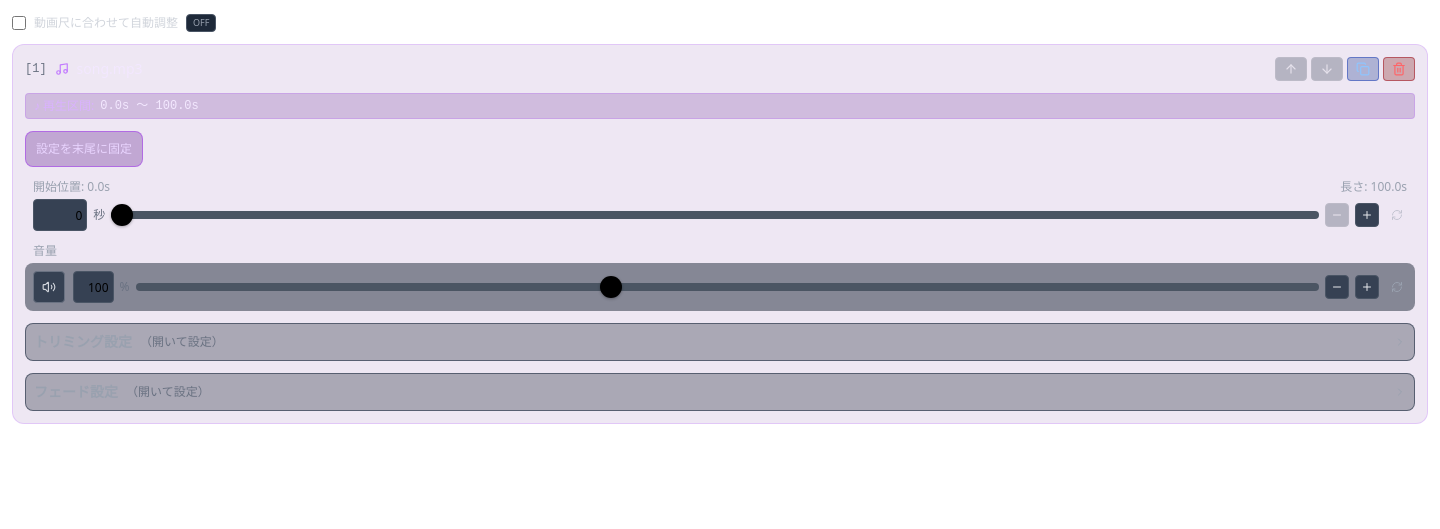
Test: BGM クリップのアコーディオン見出し › トリミング設定とフェード設定が統一見出しになり、開くと補助文言が消える
Expected: the 1st text "（開いて設定）" is shown, [140,334,224,350]
Expected: the 2nd text "（開いて設定）" is shown, [126,384,210,400]
Step 1. Click the button "トリミング設定 （開いて設定）" → (83, 342), box [26,324,1414,360]
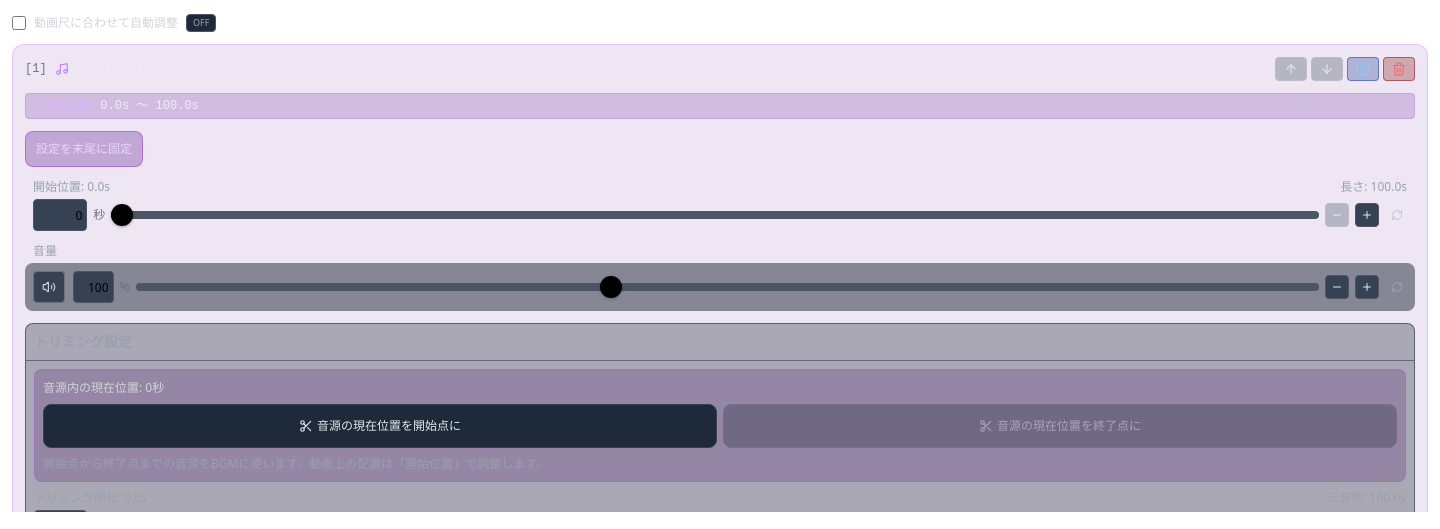
Result: the button "トリミング設定" is expanded at [26,324,1414,360]
